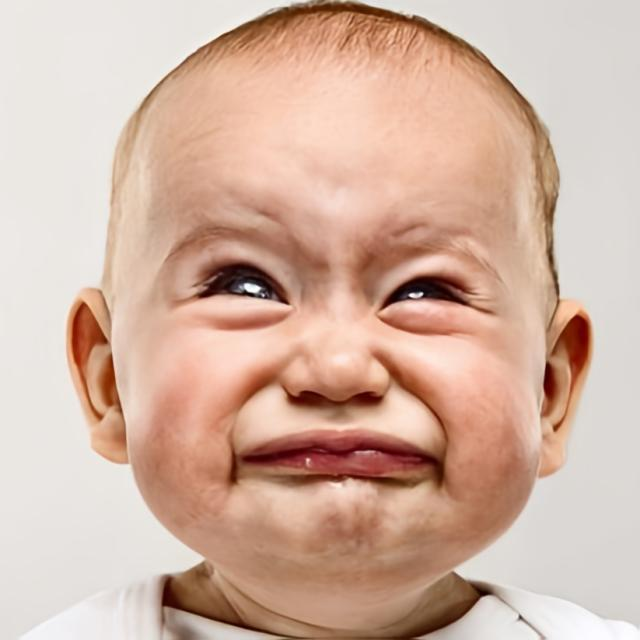sad: (111, 57, 548, 564)
